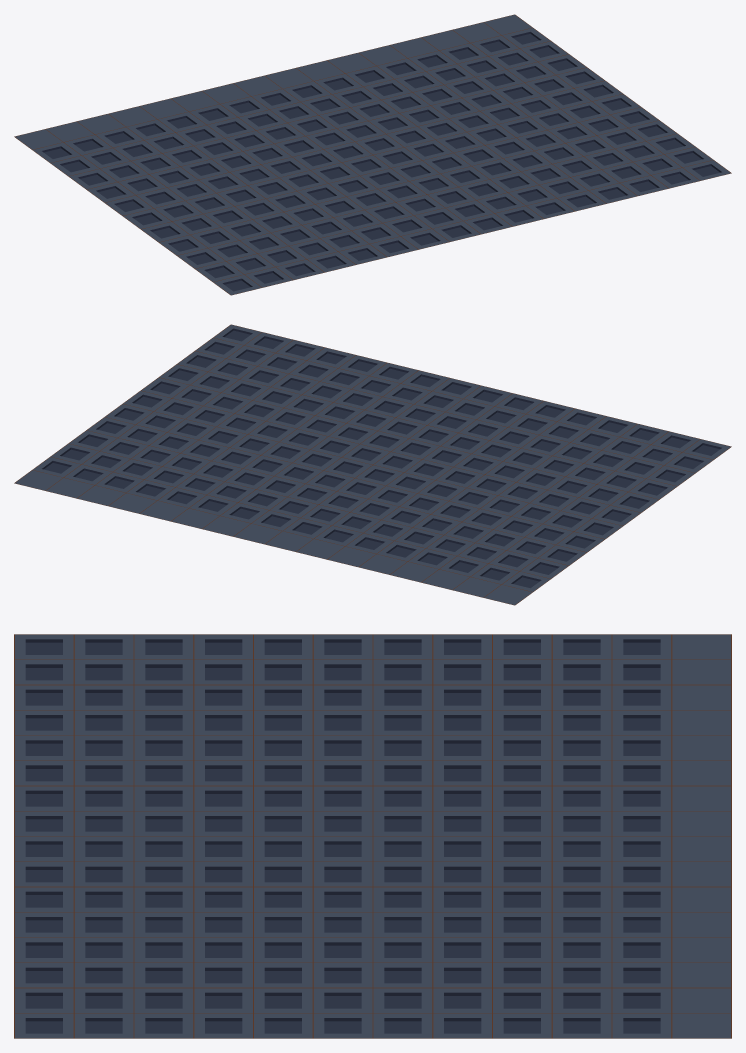
File: outside-arena-floor.glb
3 renders of one model, top to bottom at view 1: azimuth 30°, elevation 25°; view 2: azimuth 150°, elevation 25°; view 3: azimuth 270°, elevation 25°, orthographic. The views are drawn at different scales.
Visible parts, largest first — view 1: Apron with recessed square wells, Orange cross grid line (×13); view 2: Apron with recessed square wells, Orange cross grid line (×13); view 3: Apron with recessed square wells, Orange longitudinal grid line (×17), Orange cross grid line (×9).
Part boxes in pixels (x1,y1,x2,y2): Apron with recessed square wells: (15,14,730,295); Orange cross grid line (×13): (15,14,730,295); Apron with recessed square wells: (15,324,730,605); Orange cross grid line (×13): (15,324,730,605); Apron with recessed square wells: (15,634,730,1038); Orange longitudinal grid line (×17): (14,634,731,1038); Orange cross grid line (×9): (73,634,672,1038).
Size of the model in its own units: 641 by 2.51 by 481.
